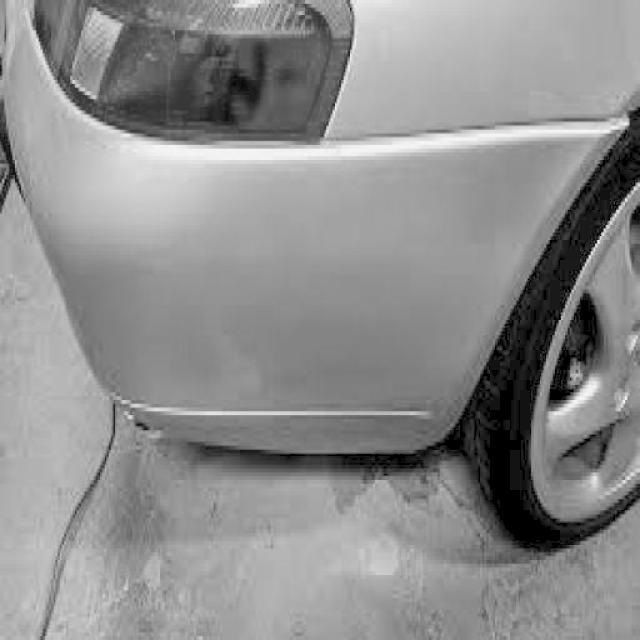car damage: (111, 376, 167, 443)
